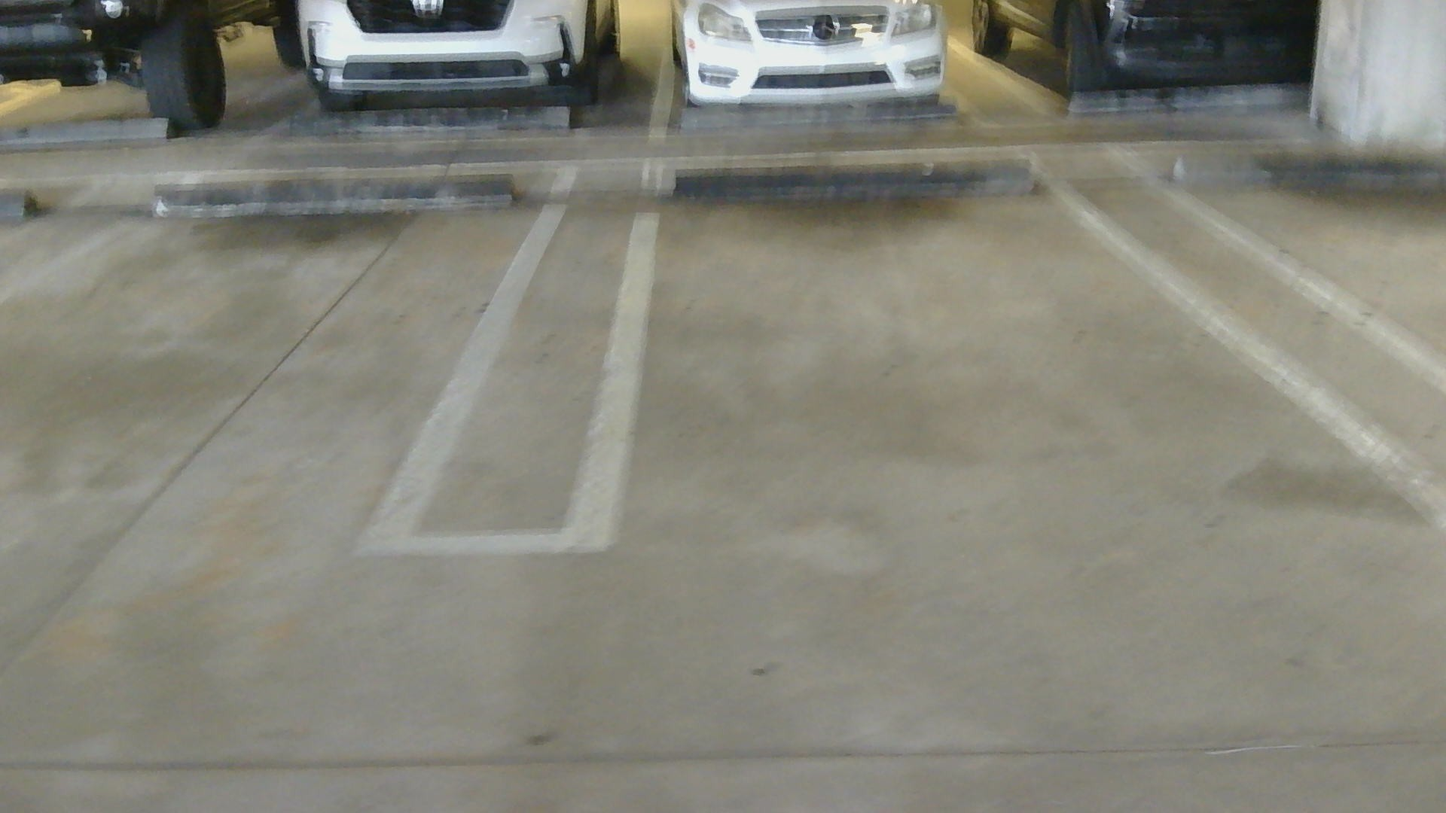empty_spot: (484, 114, 1446, 551), (0, 158, 599, 511), (1086, 0, 1446, 437)
